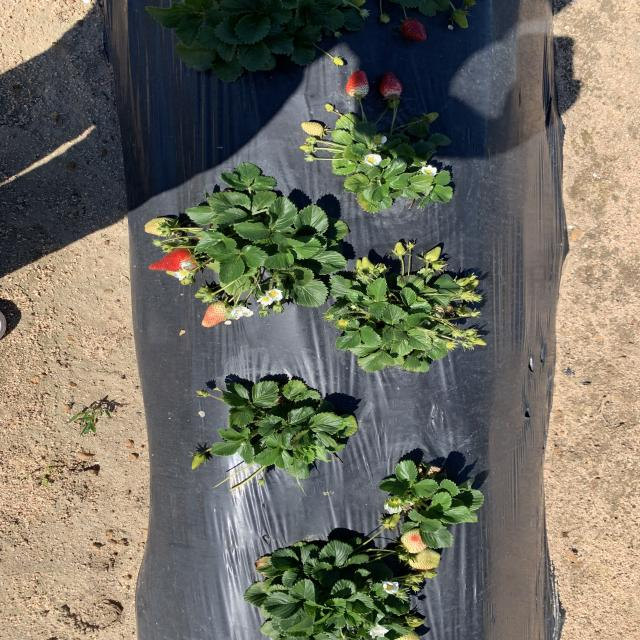unripe: (149, 248, 198, 274), (401, 18, 429, 42), (346, 71, 369, 98), (379, 71, 401, 98)
